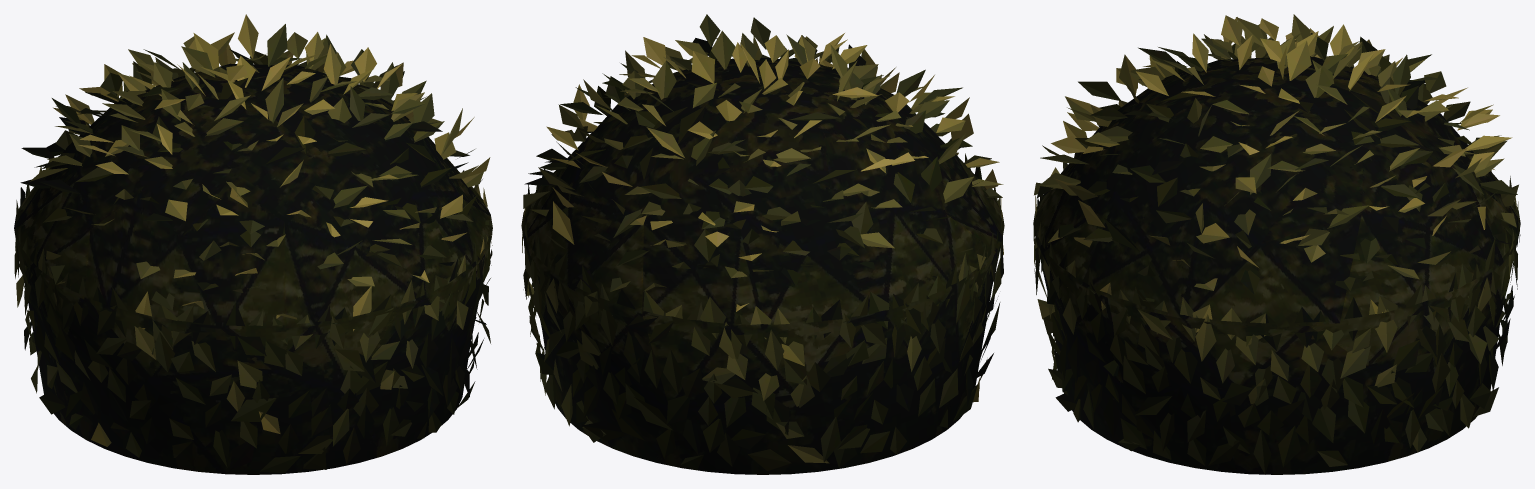
The model's file is shrub_round.glb.
3 views of the same model, side by side, from view 1: azimuth 30°, elevation 25°; view 2: azimuth 150°, elevation 25°; view 3: azimuth 270°, elevation 25° (orthographic).
Parts seen in each view (by area): view 1: body; view 2: body; view 3: body.
Part boxes in pixels (x1,y1,x2,y2): body: [14, 14, 492, 474]; body: [521, 14, 1004, 474]; body: [1033, 14, 1520, 474].
Bounding box in the file's own units: 1.1 × 0.8398 × 1.1.
1 material, 1 textured.
